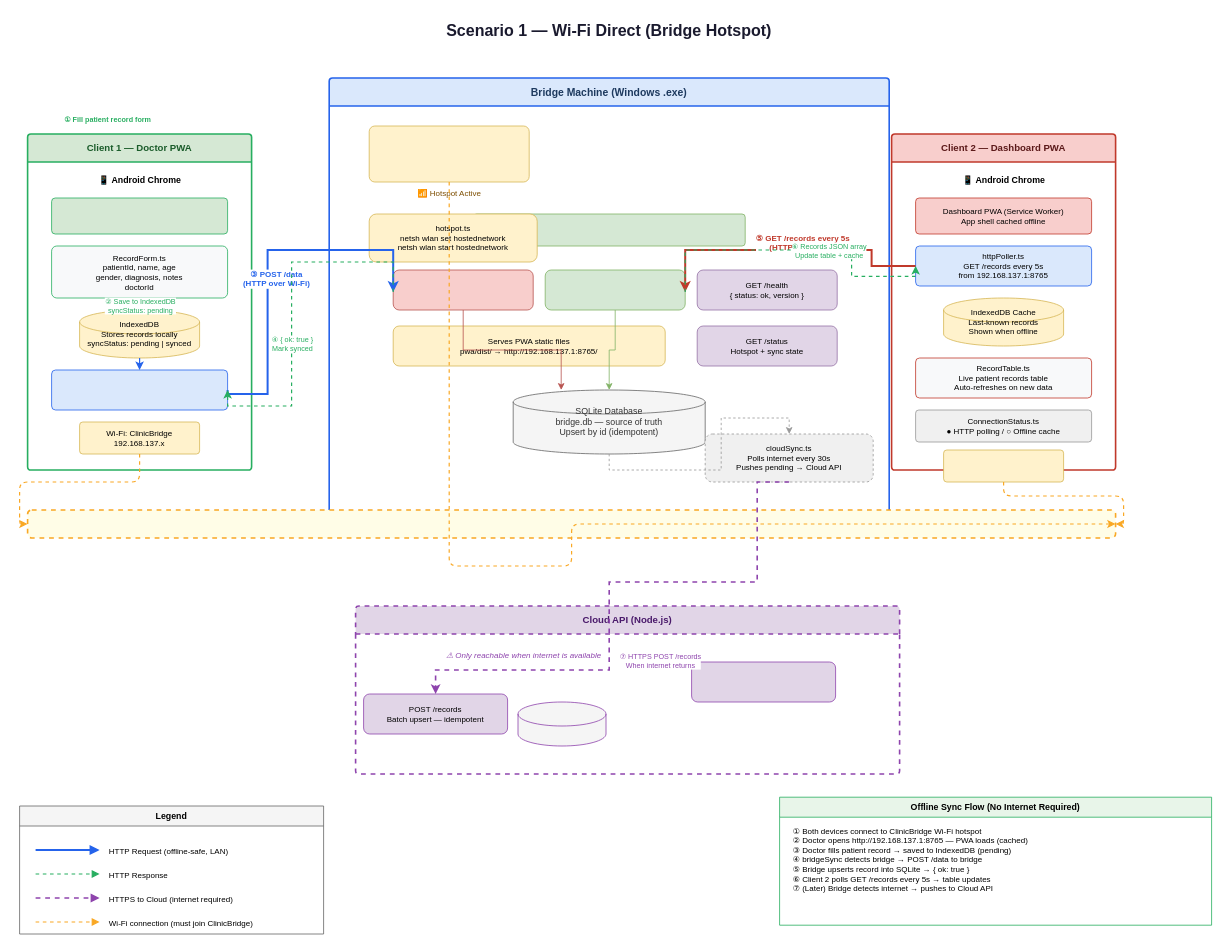
This 1226x948 diagram has some shape labels left out. Each missing label, with the centre of its shape:
bridgeSync.ts Auto-detect bridge localhost → 192.168.137.1: the point at 139,389
ClinicBridge Wi-Fi Network (192.168.137.0/24) — No internet required: the point at 571,523
GET /records Return all records (JSON): the point at 614,289
GET /records Return all stored records: the point at 763,681
Node.js Express Server :8765: the point at 608,229
POST /data Validate + Upsert record: the point at 462,289
PWA (Service Worker) App shell cached offline: the point at 139,215
SQLite / PostgreSQL: the point at 561,723
Wi-Fi Adapter SSID: ClinicBridge IP: 192.168.137.1: the point at 448,153
Wi-Fi: ClinicBridge 192.168.137.y: the point at 1003,465
